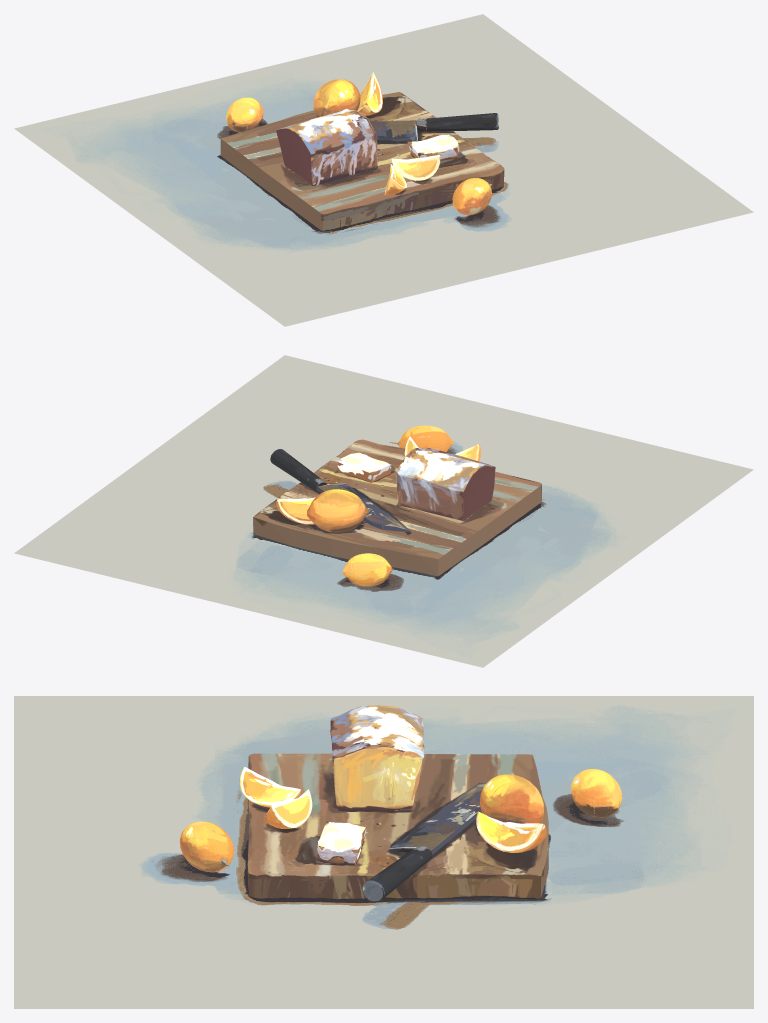
File: still_life_based_on_heathers_artwork-transformed_compressed.glb
The picture shows the model from 3 angles, top to bottom: view 1: azimuth 30°, elevation 25°; view 2: azimuth 150°, elevation 25°; view 3: azimuth 270°, elevation 25°; orthographic projection. The views are drawn at different scales.
Visible parts, largest first — view 1: Plane_6, Cube_0, Cube.001_1, Cube.004_3, Cylinder.001_5, Sphere.002_8, Sphere.003_9, Cube.007_4; view 2: Plane_6, Cube_0, Cube.001_1, Cube.004_3, Cylinder.001_5, Sphere.003_9, Cube.007_4, Cube.003_2; view 3: Plane_6, Cube_0, Cube.001_1, Cube.004_3, Cylinder.001_5, Sphere.003_9, Sphere.001_7, Cube.007_4, Sphere.002_8, Cube.003_2.
Boxes of the visible parts, bbox=[...] form: Plane_6: bbox=[14, 14, 753, 326]; Cube_0: bbox=[220, 92, 504, 231]; Cube.001_1: bbox=[276, 108, 377, 185]; Cube.004_3: bbox=[226, 79, 491, 215]; Cylinder.001_5: bbox=[369, 113, 498, 141]; Sphere.002_8: bbox=[391, 155, 440, 180]; Sphere.003_9: bbox=[357, 72, 382, 115]; Cube.007_4: bbox=[409, 135, 459, 158]; Plane_6: bbox=[14, 355, 753, 667]; Cube_0: bbox=[253, 439, 541, 576]; Cube.001_1: bbox=[396, 448, 495, 520]; Cube.004_3: bbox=[307, 425, 454, 586]; Cylinder.001_5: bbox=[270, 449, 410, 532]; Sphere.003_9: bbox=[276, 497, 315, 524]; Cube.007_4: bbox=[337, 453, 391, 480]; Cube.003_2: bbox=[337, 452, 391, 482]; Plane_6: bbox=[14, 696, 753, 1008]; Cube_0: bbox=[247, 753, 548, 899]; Cube.001_1: bbox=[330, 705, 424, 810]; Cube.004_3: bbox=[179, 769, 622, 872]; Cylinder.001_5: bbox=[362, 782, 485, 901]; Sphere.003_9: bbox=[476, 811, 546, 852]; Sphere.001_7: bbox=[240, 767, 300, 807]; Cube.007_4: bbox=[317, 822, 366, 863]; Sphere.002_8: bbox=[264, 789, 312, 828]; Cube.003_2: bbox=[316, 821, 367, 864].
Bounding box in the file's own units: 4.61 × 0.6255 × 4.61.
Materials: 3 (3 with a texture image).
